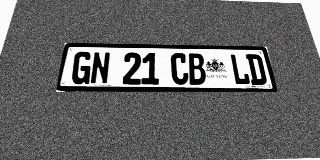1: (141, 53, 159, 85)
2: (123, 52, 141, 84)
B: (187, 53, 207, 85)
C: (170, 53, 189, 85)
D: (245, 54, 268, 85)
G: (70, 52, 93, 84)
L: (229, 54, 251, 85)
N: (90, 52, 111, 84)
